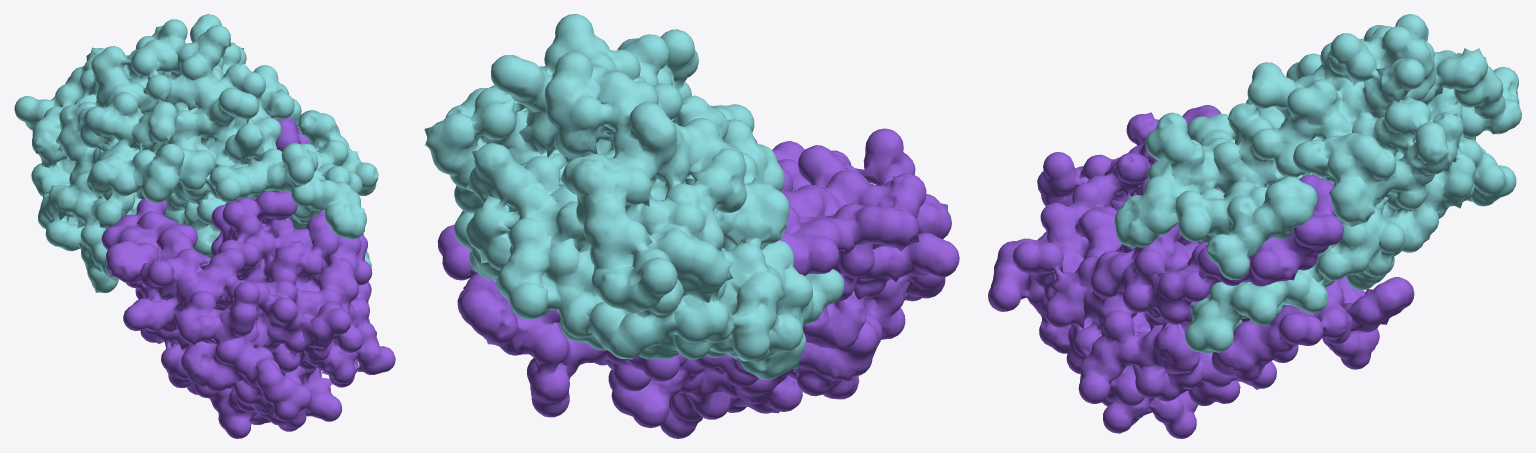
File: 1hxbCentered.fbx
3 renders of one model, left to right at view 1: azimuth 30°, elevation 25°; view 2: azimuth 150°, elevation 25°; view 3: azimuth 270°, elevation 25°, orthographic. The views are drawn at different scales.
Visible parts, largest first — view 1: chain_A_surface chain_A model_1; view 2: chain_A_surface chain_A model_1; view 3: chain_A_surface chain_A model_1.
Part boxes in pixels (x1=…): chain_A_surface chain_A model_1: x1=14, y1=14, x2=395, y2=438; chain_A_surface chain_A model_1: x1=424, y1=14, x2=959, y2=438; chain_A_surface chain_A model_1: x1=988, y1=14, x2=1521, y2=438.
Bounding box in the file's own units: 4329 × 4823 × 5778.
